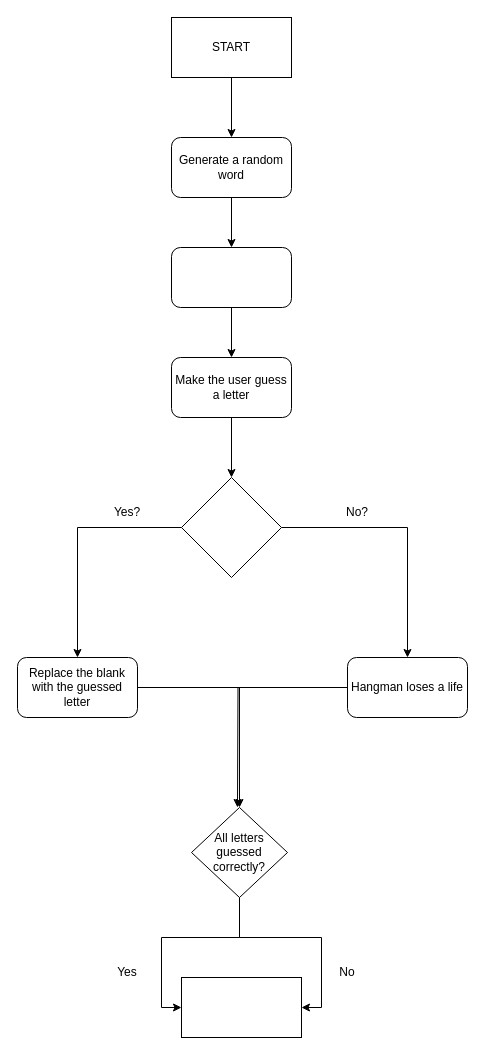
Image size: 485x1055. Some labels were removed from this diagram. Here are the shapes that lost their labels. From the top down, the centre of each, then its label:
pixel 231 277: Generate blanks equal to the length of the word generated
pixel 231 527: Correct letter?
pixel 241 1007: Game Over
